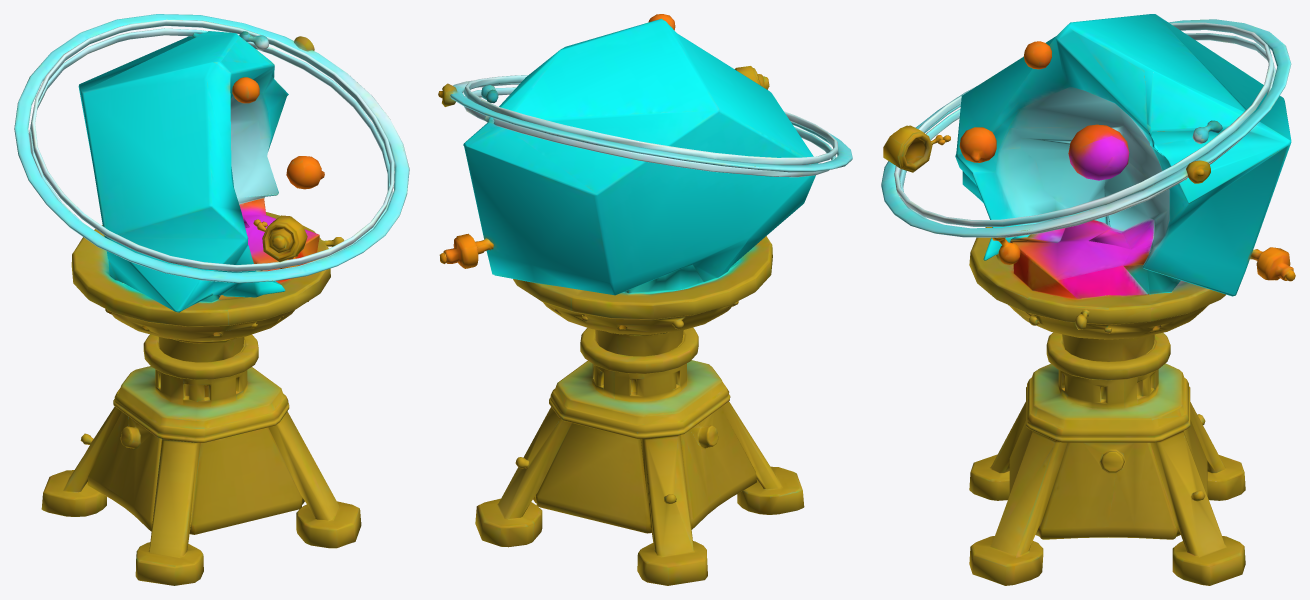
Rendered from rift-beacon-CzDOjdXF.glb.
3 renders of one model, left to right at view 1: azimuth 30°, elevation 25°; view 2: azimuth 150°, elevation 25°; view 3: azimuth 270°, elevation 25°, orthographic. The views are drawn at different scales.
Parts seen in each view (by area): view 1: tripo_node_51d96b7b-6f4f-4e84-a2a3-0bfd43a7b397; view 2: tripo_node_51d96b7b-6f4f-4e84-a2a3-0bfd43a7b397; view 3: tripo_node_51d96b7b-6f4f-4e84-a2a3-0bfd43a7b397.
Boxes of the visible parts, left/top/right/bottom form: tripo_node_51d96b7b-6f4f-4e84-a2a3-0bfd43a7b397: left=14, top=14, right=409, bottom=585; tripo_node_51d96b7b-6f4f-4e84-a2a3-0bfd43a7b397: left=438, top=14, right=852, bottom=585; tripo_node_51d96b7b-6f4f-4e84-a2a3-0bfd43a7b397: left=881, top=14, right=1295, bottom=585.
Bounding box in the file's own units: 0.7613 × 0.9961 × 0.7456.
Materials: 1 (1 with a texture image).
